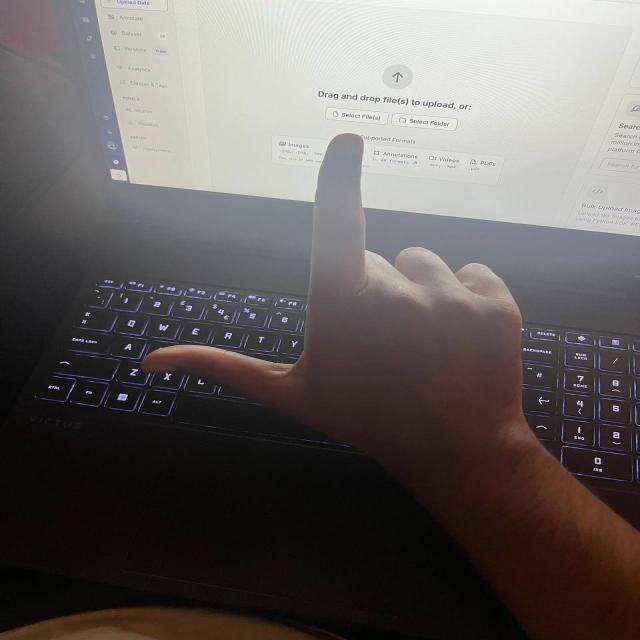hand thumb and index out: (149, 130, 571, 443)
